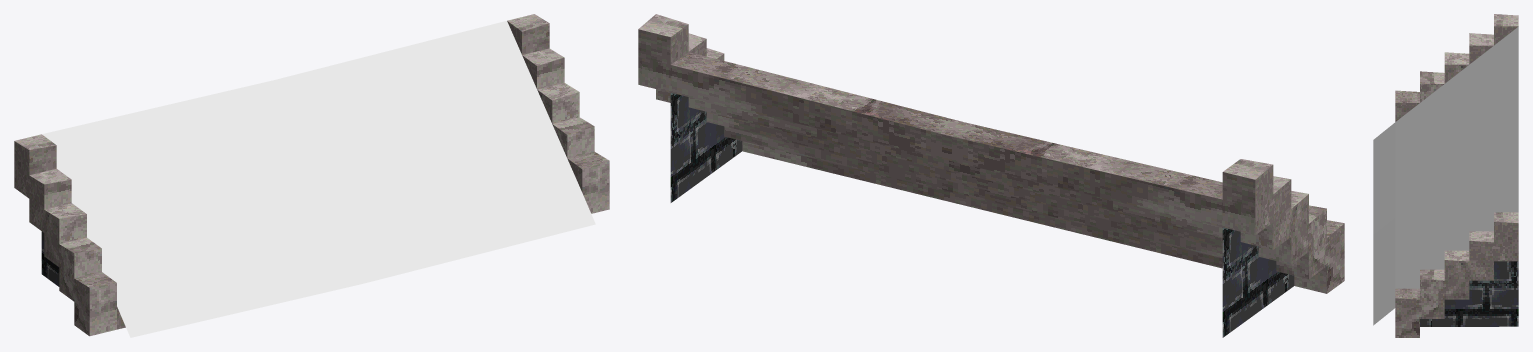
The model's file is stairs_1m_02.gltf.
The picture shows the model from 3 angles, left to right: view 1: azimuth 30°, elevation 25°; view 2: azimuth 150°, elevation 25°; view 3: azimuth 270°, elevation 25°; orthographic projection. The views are drawn at different scales.
Visible parts, largest first — view 1: colplane-colonly.002, stairs_1m_02; view 2: stairs_1m_02; view 3: colplane-colonly.002, stairs_1m_02.
Boxes of the visible parts, x1,y1,x2,y2 form: colplane-colonly.002: (42, 21, 595, 337); stairs_1m_02: (14, 14, 609, 336); stairs_1m_02: (638, 14, 1344, 337); colplane-colonly.002: (1373, 27, 1518, 325); stairs_1m_02: (1395, 14, 1518, 337).
Size of the model in its own units: 4 by 1.05 by 1.18.
Materials: 1 (1 with a texture image).
